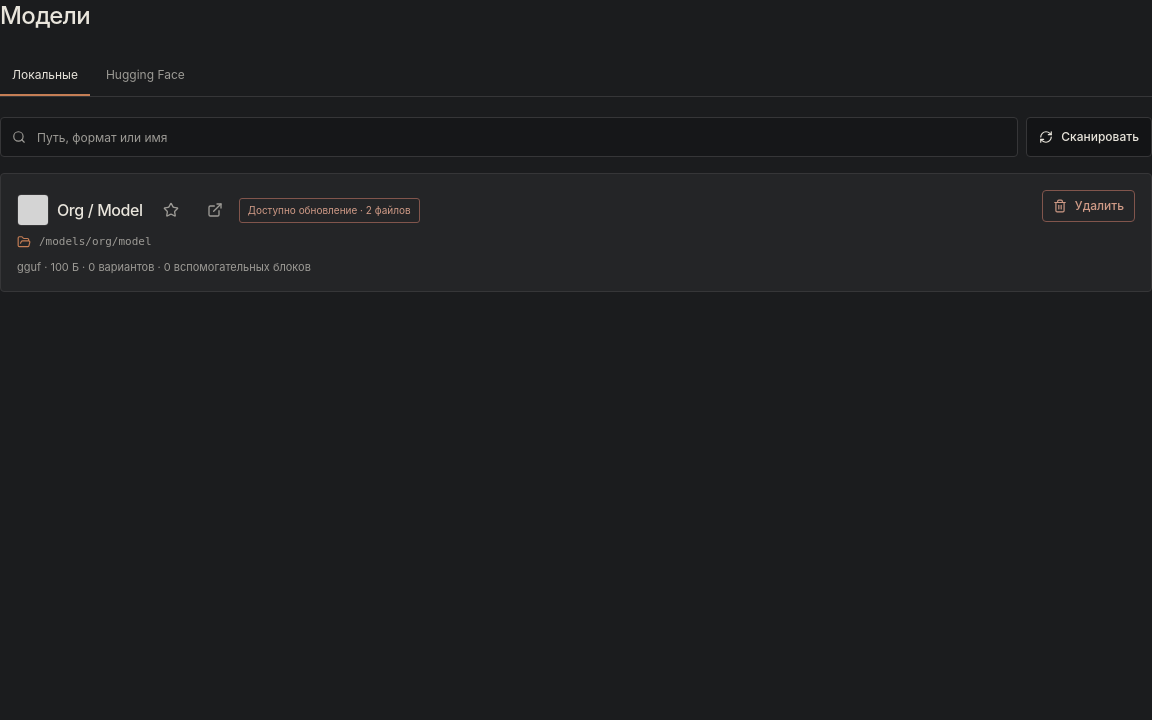
Test: updates all files and lets the user close the dialog while the download continues
Click the button "Доступно обновление · 2 файлов". click: [329, 210]
box: [239,198,420,222]
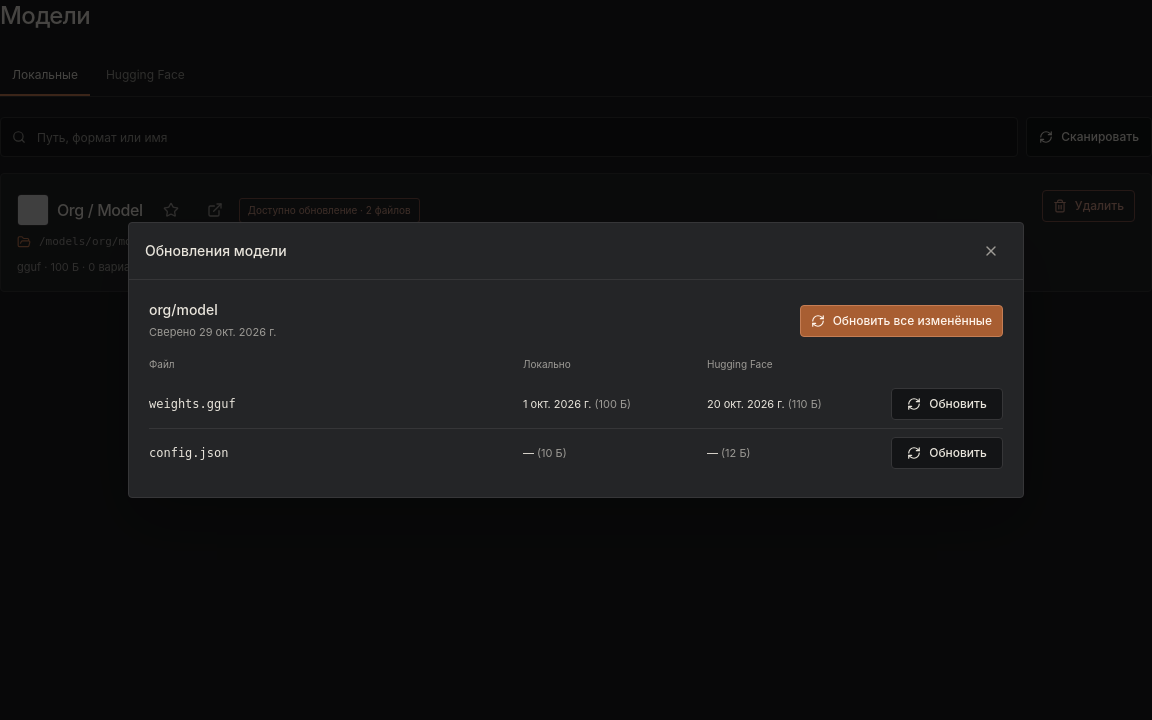
Expected: the text "weights.gguf" is shown, [149,397,236,411]
Click the button "Обновить все изменённые". click: [901, 320]
box: [800,304,1003,336]
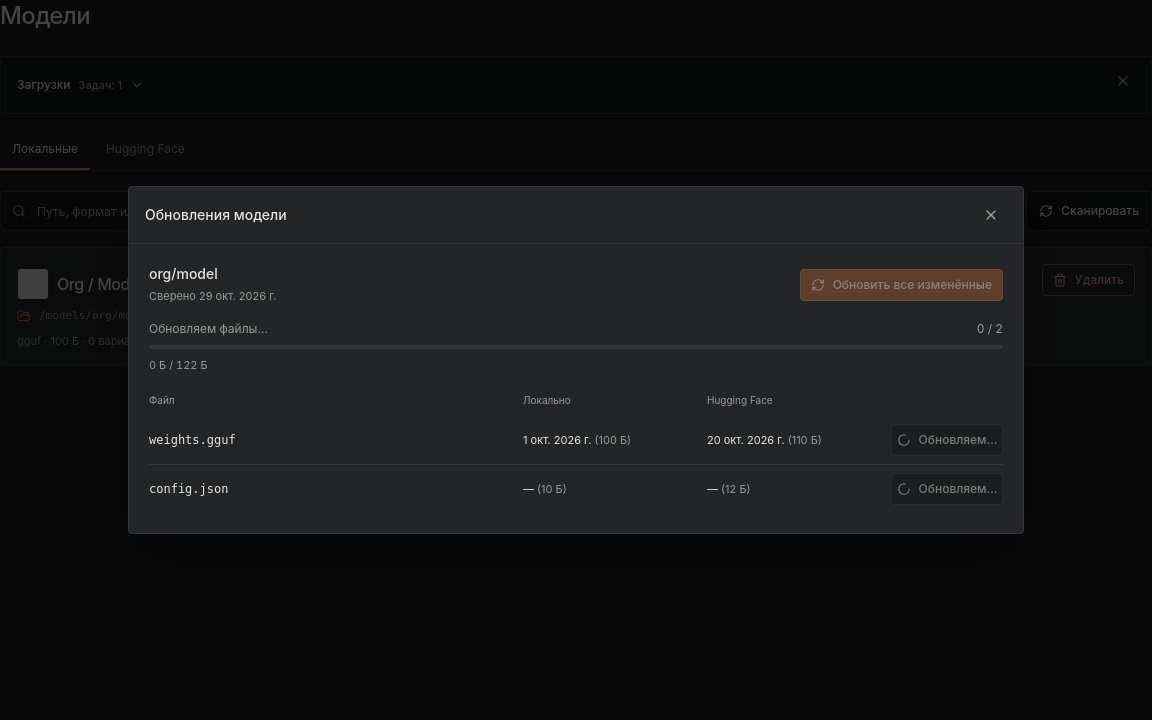
Click the button named "Закрыть". click: [991, 215]
box: [975,199,1007,231]
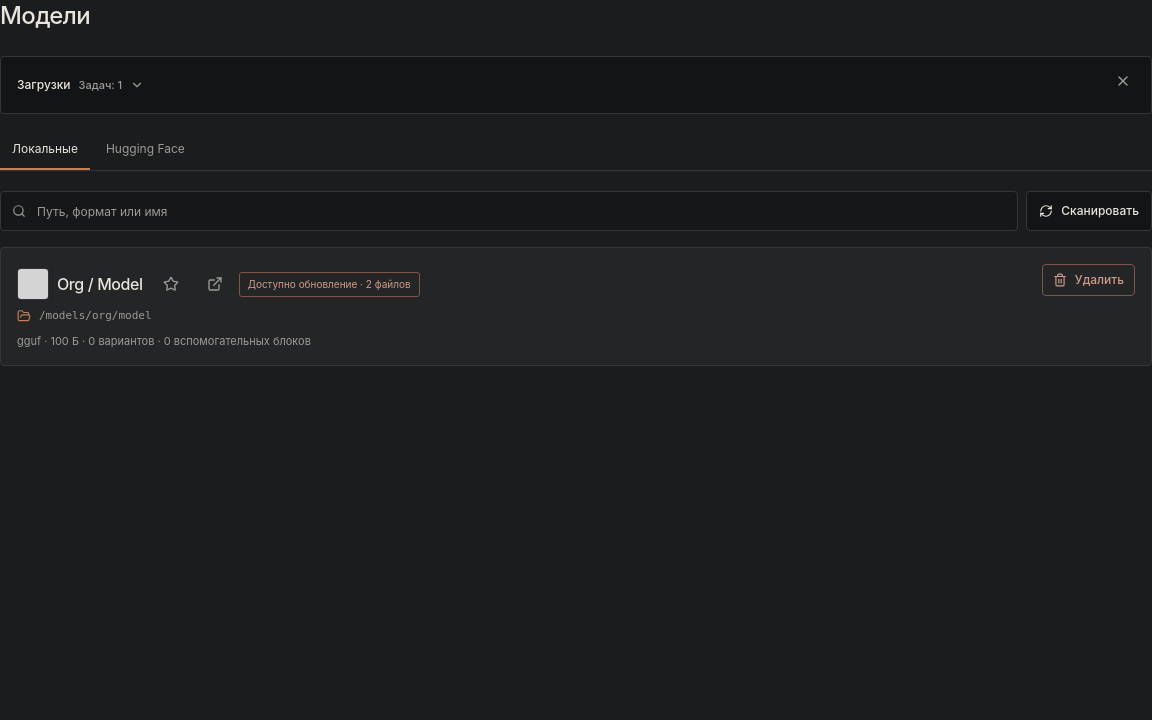
Expected: the dialog is gone
Click the button "Доступно обновление · 2 файлов". click: [329, 284]
box: [239,272,420,296]
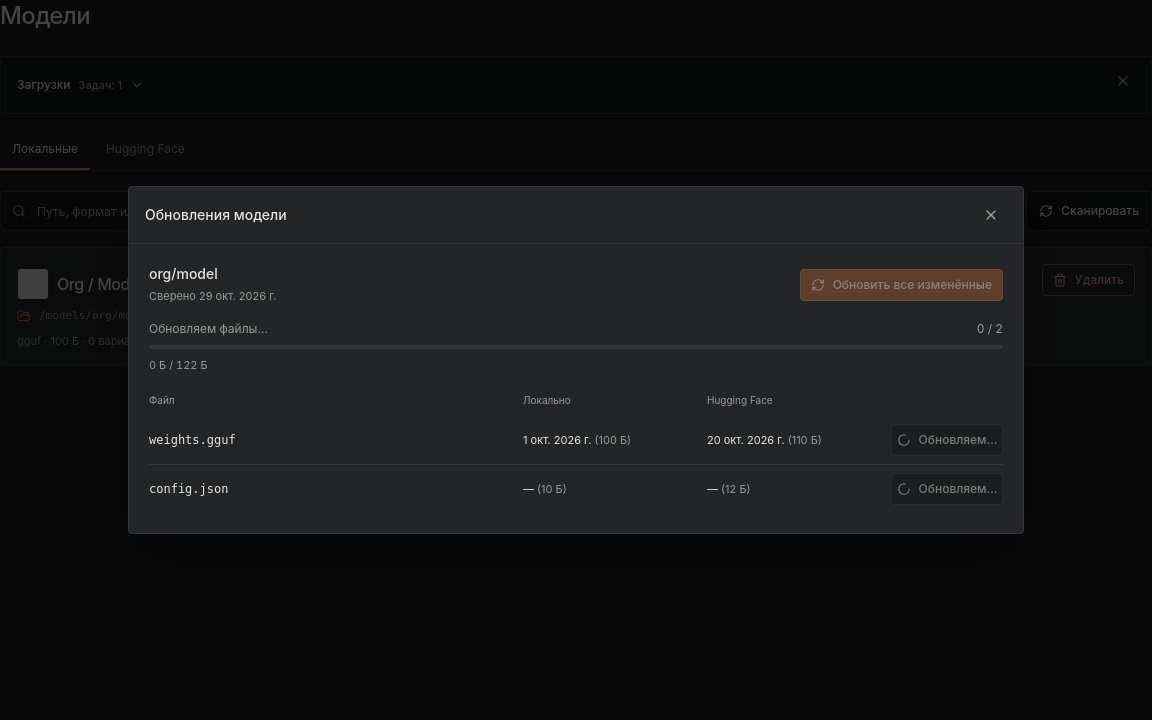
Expected: the message named "Обновление файлов" is shown, [149,321,1003,377]
